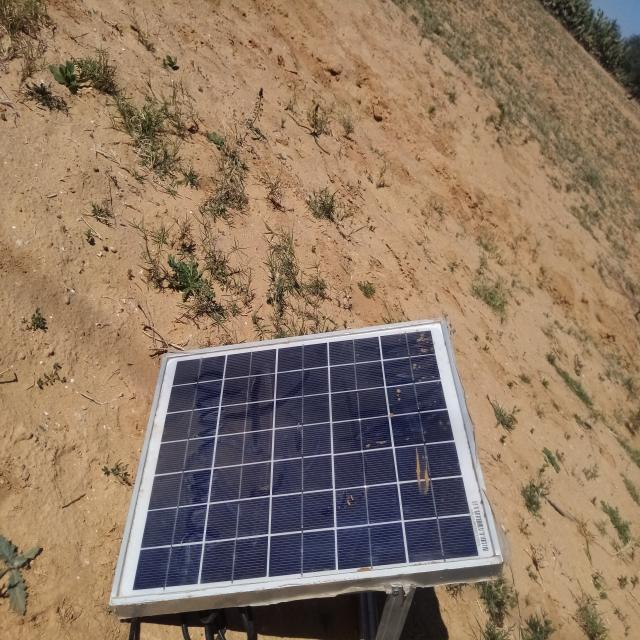faulty: (110, 321, 499, 602)
